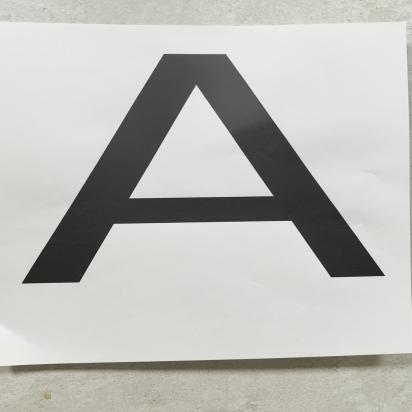seat: (23, 46, 412, 357)
